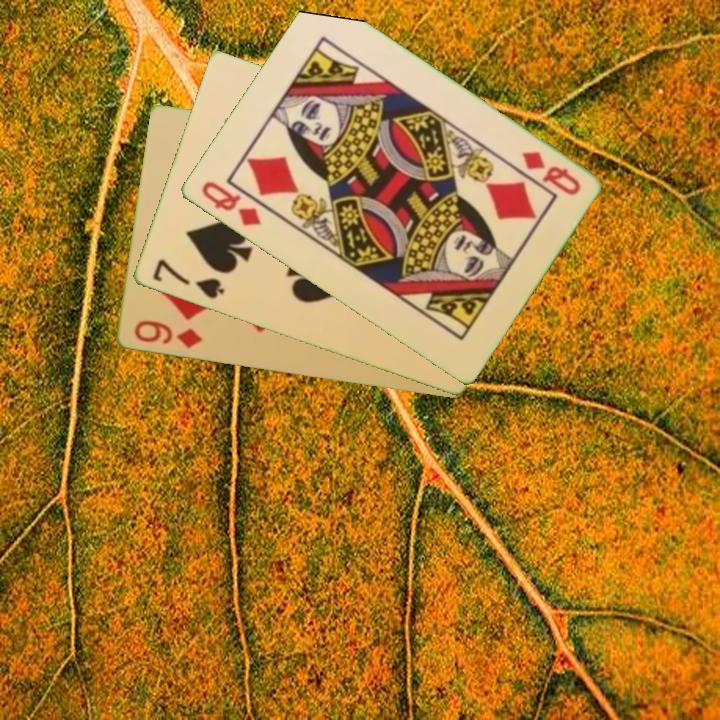7s: (148, 255, 227, 302)
9d: (130, 317, 205, 352)
Qd: (197, 177, 264, 229), (517, 147, 584, 199)
